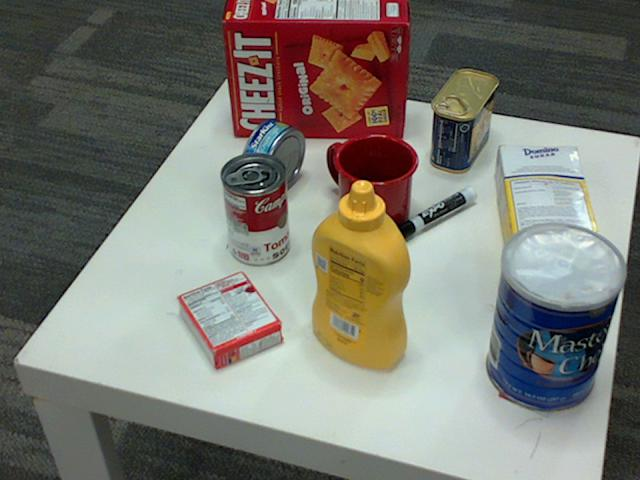cracker_box: (224, 0, 409, 138)
gelatin_box: (173, 270, 278, 370)
large_marker: (390, 190, 477, 242)
master_chef_can: (487, 224, 628, 413)
mug: (326, 132, 418, 235)
mustard_bottle: (311, 181, 410, 370)
potted_meat_can: (429, 71, 496, 174)
sugar_box: (495, 145, 601, 276)
tomato_soup_can: (220, 153, 289, 266)
tuna_fish_can: (239, 118, 304, 196)
